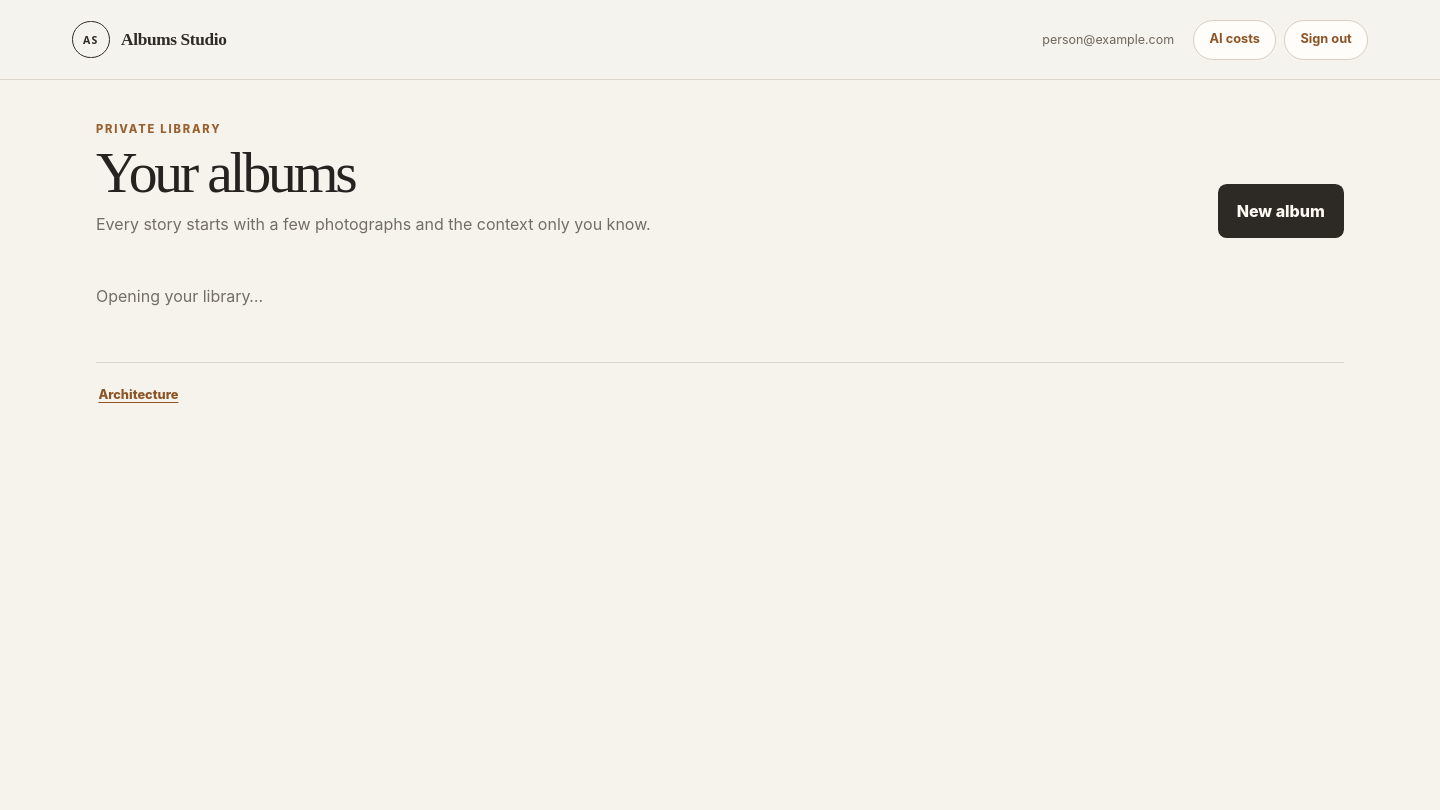
Test: App › signs out from the library
The image size is (1440, 810).
Expected: the heading "Your albums" is shown, x1=96 y1=141 x2=354 y2=204
Click the button "Sign out": (1326, 40) x1=1284 y1=20 x2=1368 y2=60
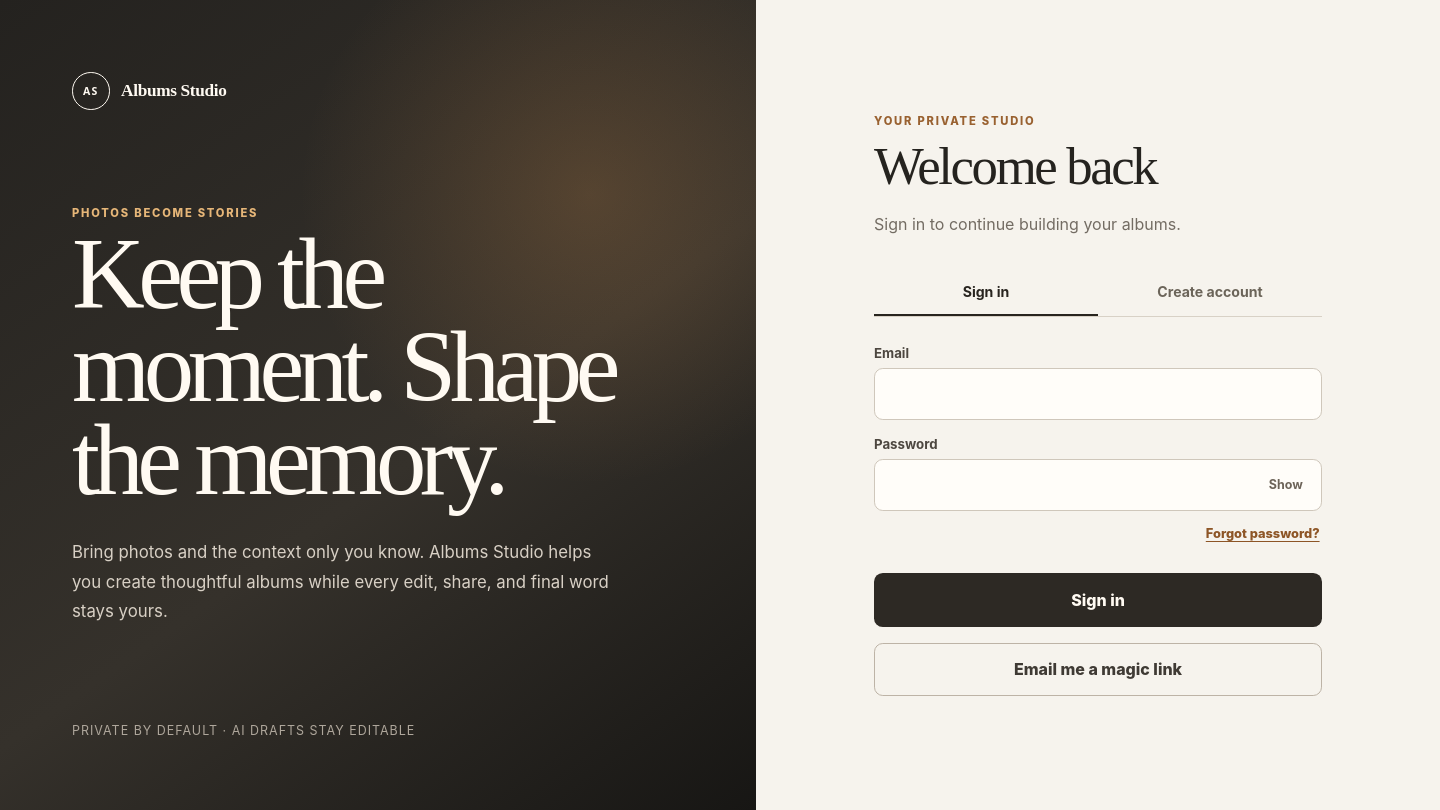
Expected: the heading "Welcome back" is shown, x1=874 y1=137 x2=1156 y2=195
